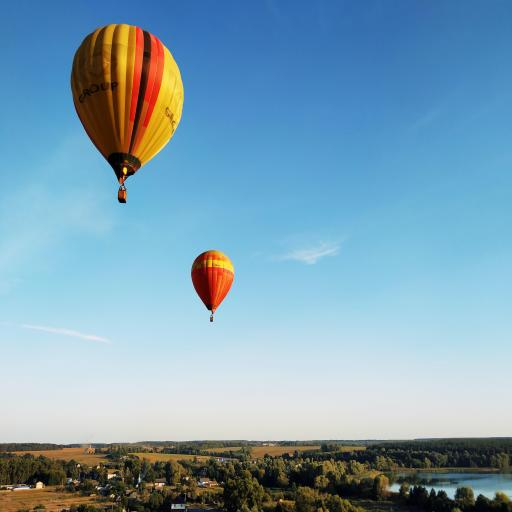hot air ballon: (71, 23, 184, 203), (191, 250, 234, 322)
